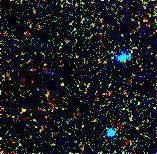star: (6, 101, 36, 131)
